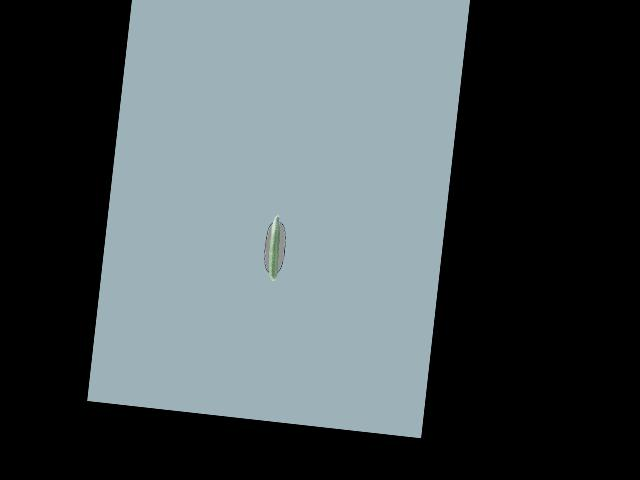cucumber: (266, 213, 284, 281)
